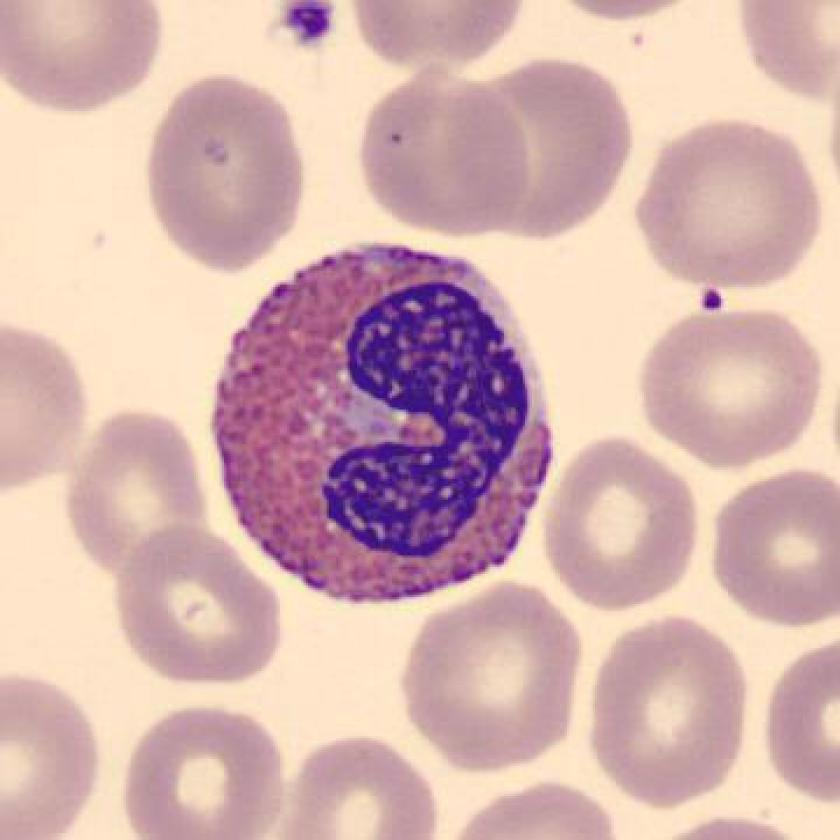eosinophil: (202, 235, 570, 617)
